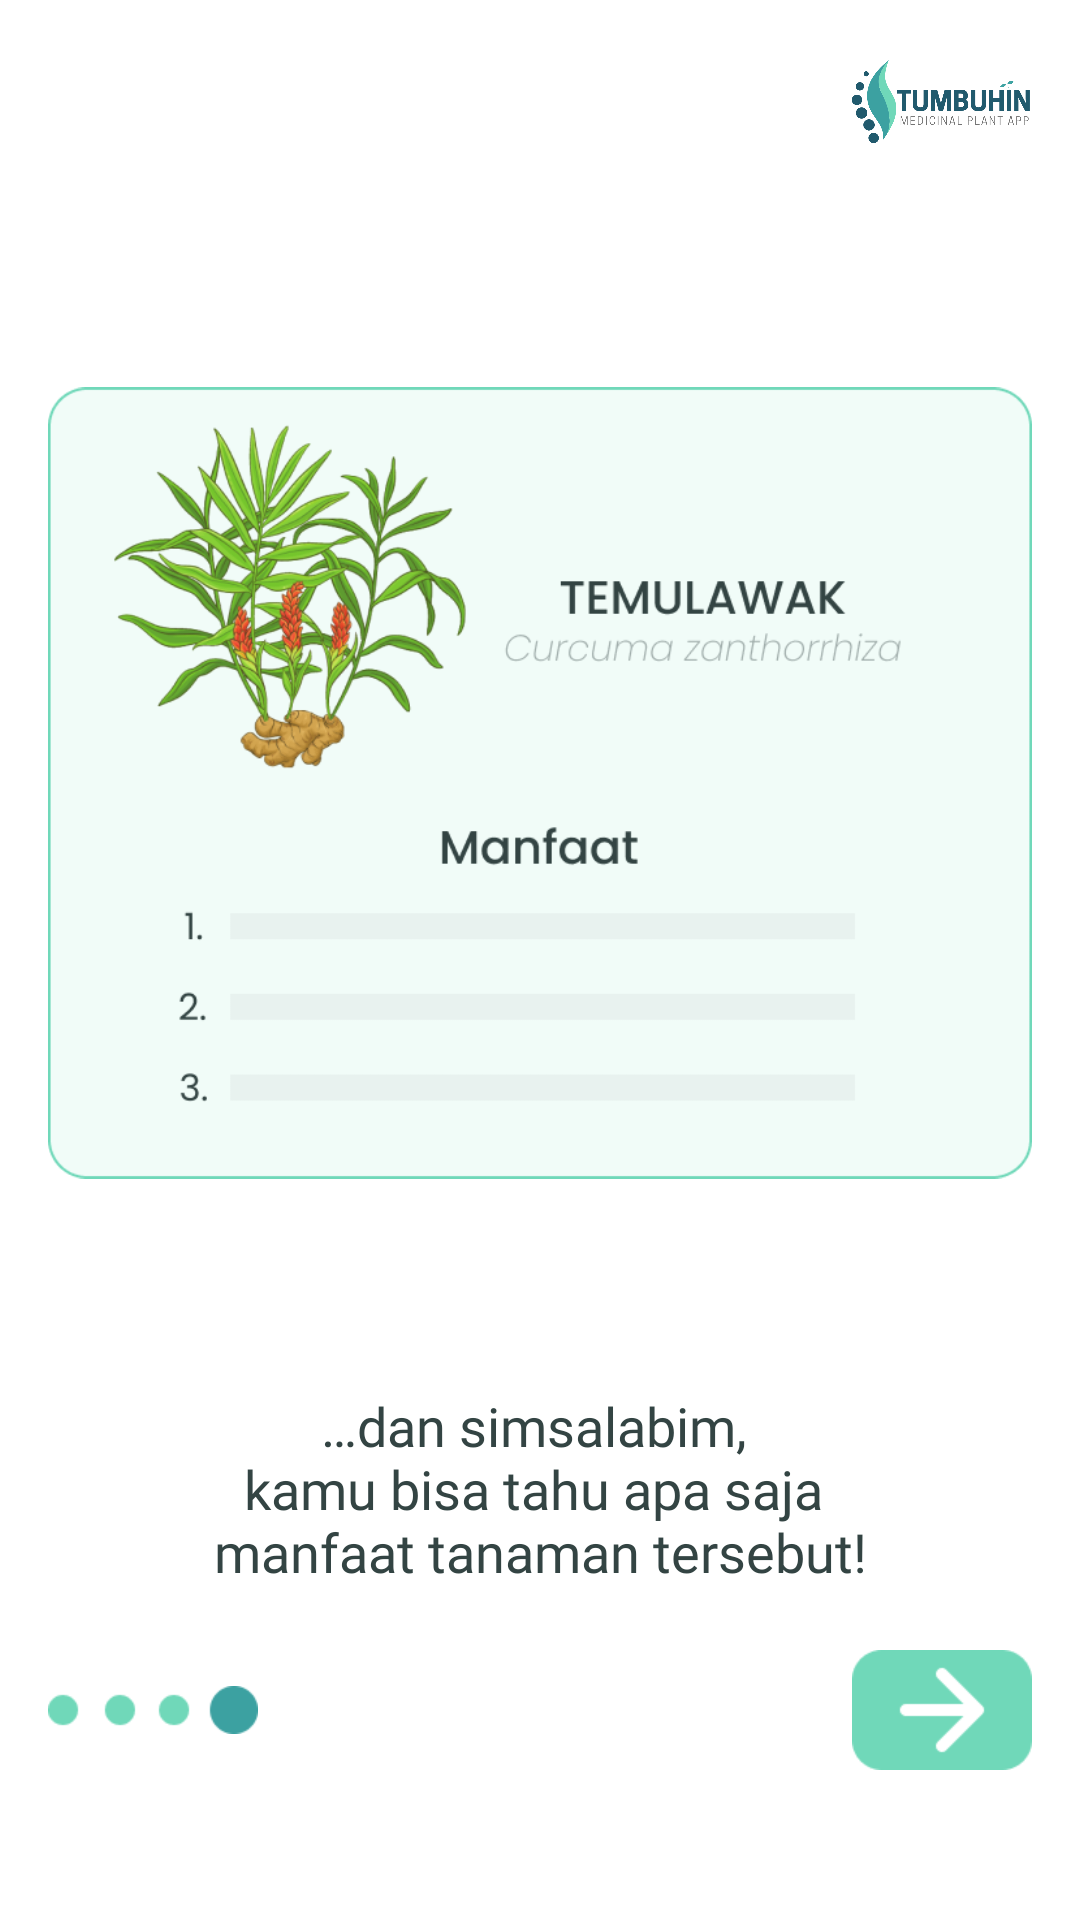

Screen size 1080px x 1920px. Icon name, then its box in pixels as (x1, y1, x2, y2):
Next Button: (852, 1650, 1032, 1770)
Progress Icon: (48, 1686, 258, 1734)
